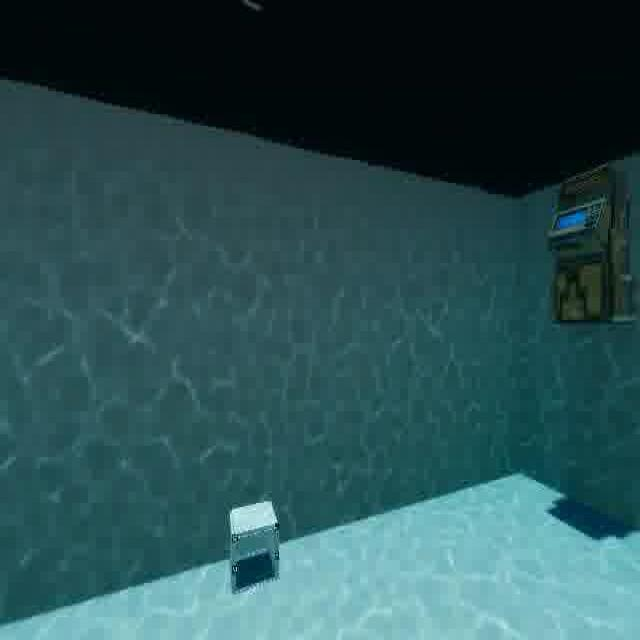Control Panel: (540, 153, 640, 333)
Docking Station: (222, 496, 293, 593)
